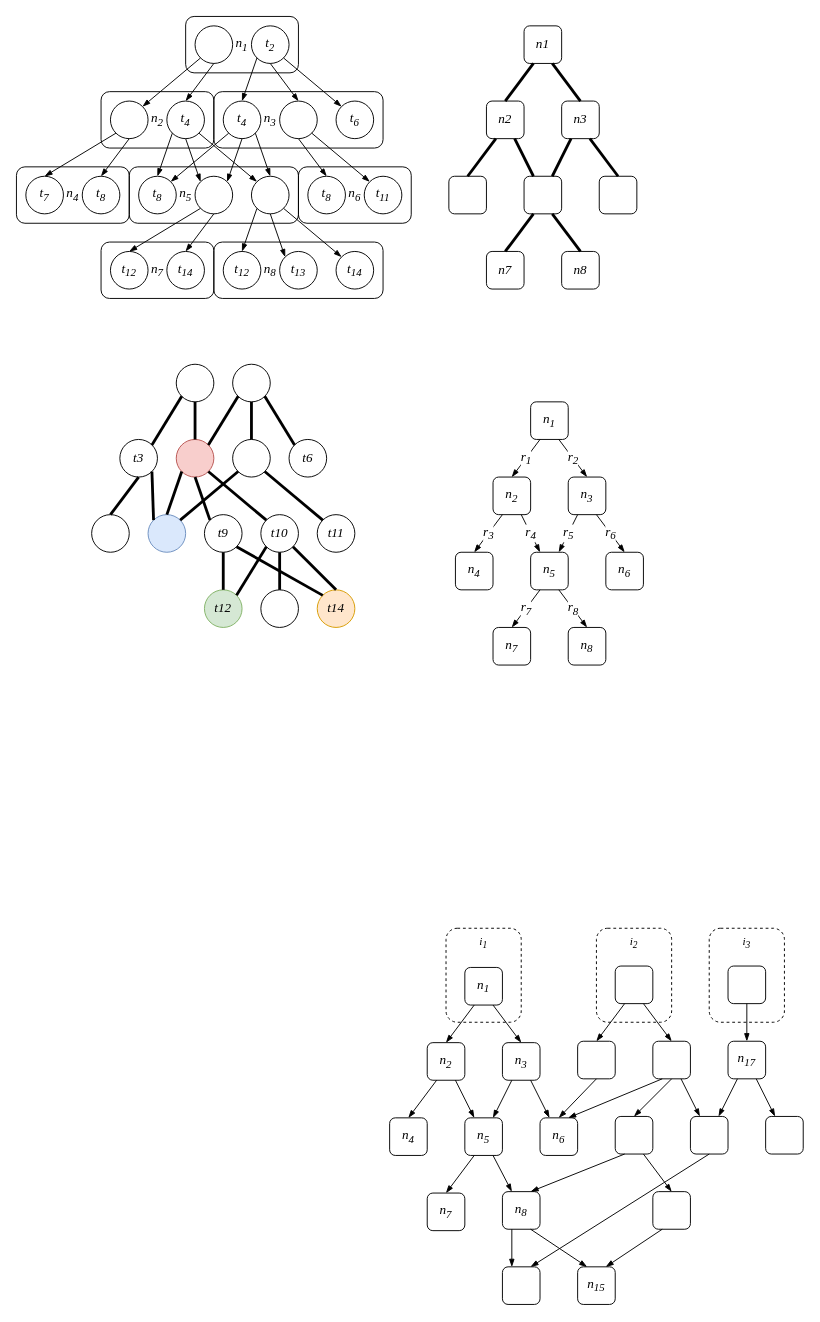
The diagram is 820 pixels wide and 1322 high, and some of its shapes have lost their labels. The centre of each missing label's shape, as x and y in pixels:
"n 10" goes at (x=633, y=984).
"n 11" goes at (x=596, y=1059).
"n 12" goes at (x=671, y=1059).
"n 13" goes at (x=633, y=1134).
"n 14" goes at (x=671, y=1210).
"n 16" goes at (x=746, y=984).
"n 18" goes at (x=708, y=1134).
"n 19" goes at (x=784, y=1134).
"n 9" goes at (x=520, y=1285).
"n4" goes at (x=467, y=194).
"n5" goes at (x=542, y=194).
"n6" goes at (x=617, y=194).
"t 1" goes at (x=213, y=44).
"t 10" goes at (x=270, y=194).
"t 3" goes at (x=129, y=119).
"t 5" goes at (x=298, y=119).
"t 9" goes at (x=213, y=194).
"t1" goes at (x=194, y=382).
"t13" goes at (x=279, y=608).
"t2" goes at (x=251, y=382).
"t4" goes at (x=194, y=458).
"t5" goes at (x=251, y=458).
"t7" goes at (x=110, y=533).
"t8" goes at (x=166, y=533).
